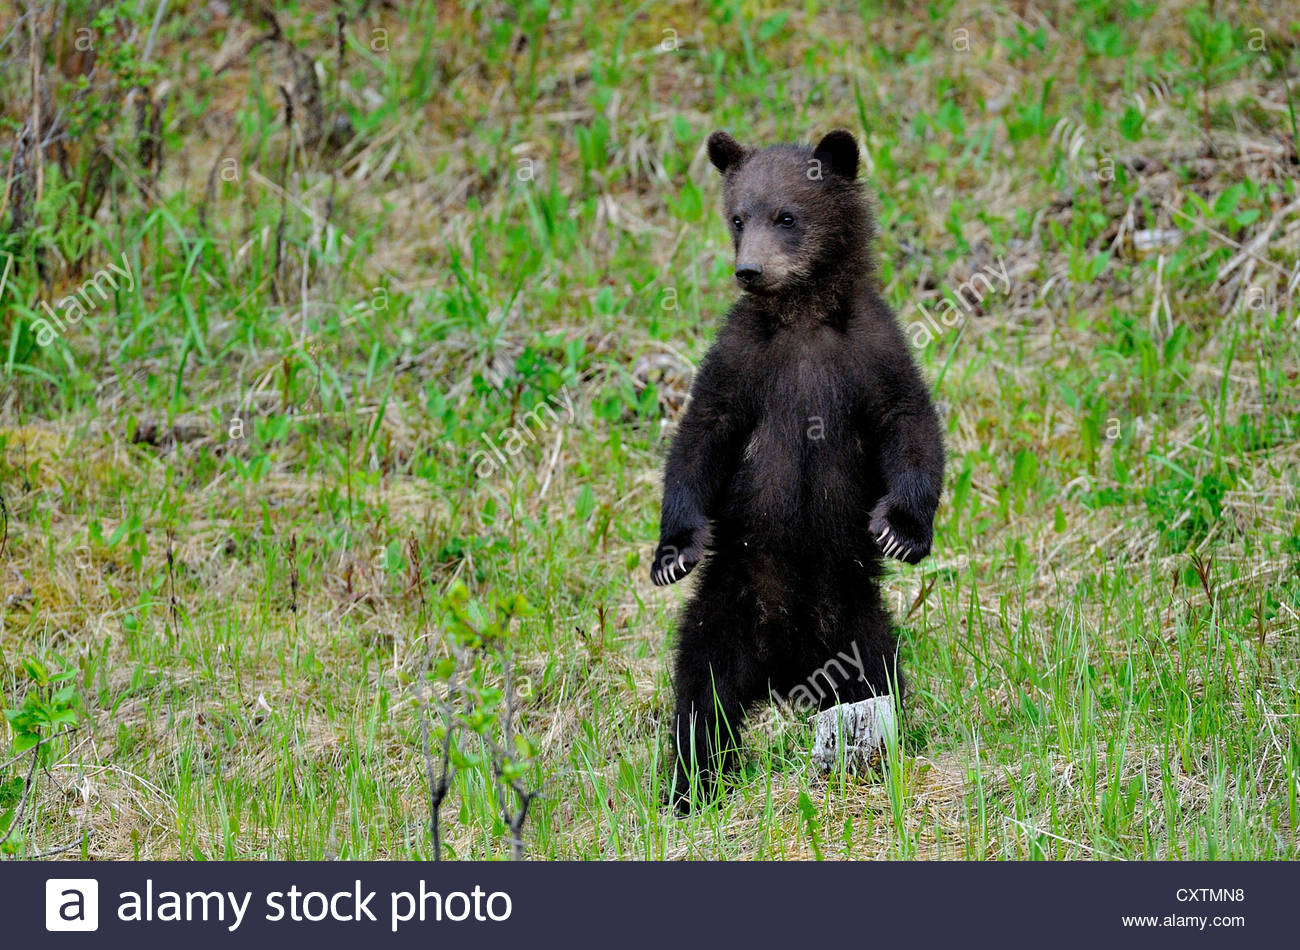bear: (645, 115, 949, 807)
